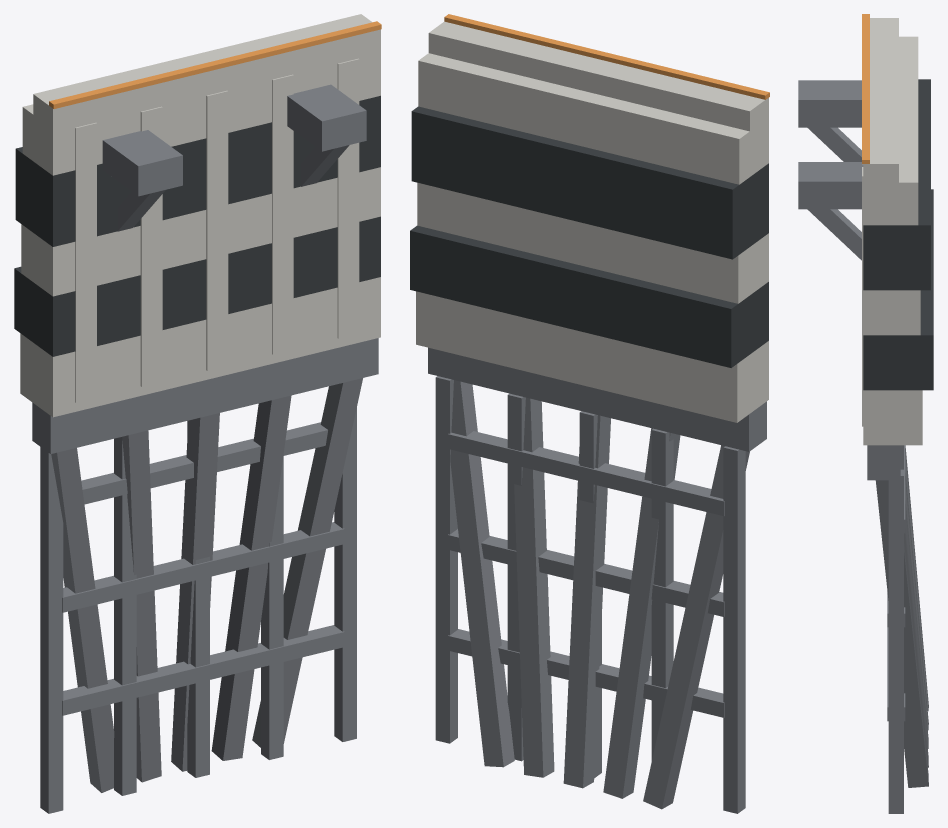
Rendered from M_WorldRim.fbx.
3 renders of one model, left to right at view 1: azimuth 30°, elevation 25°; view 2: azimuth 150°, elevation 25°; view 3: azimuth 270°, elevation 25°, orthographic. The views are drawn at different scales.
Visible parts, largest first — view 1: M_WorldRim; view 2: M_WorldRim; view 3: M_WorldRim.
Part boxes in pixels (bbox=[...]): M_WorldRim: bbox=[14, 14, 381, 813]; M_WorldRim: bbox=[410, 14, 769, 813]; M_WorldRim: bbox=[798, 14, 933, 813].
Bounding box in the file's own units: 2500 × 5282 × 980.
